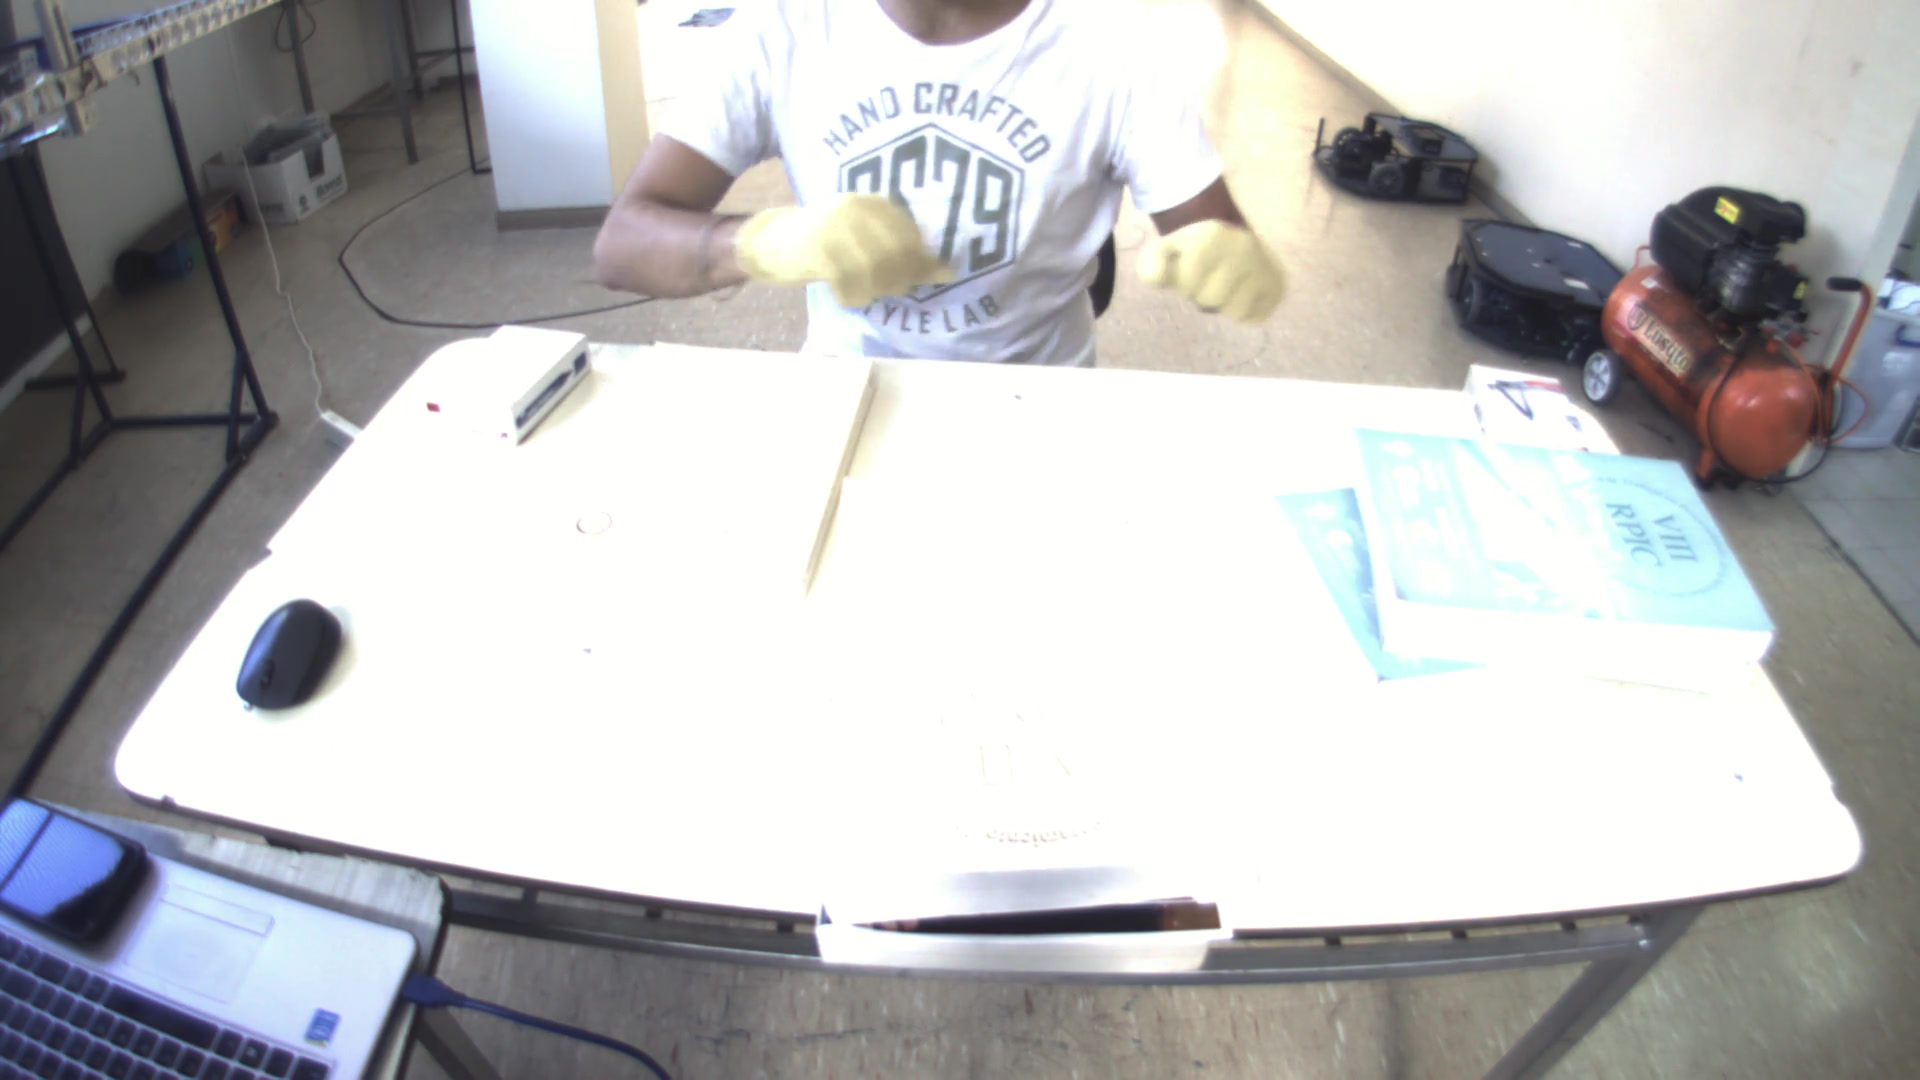hand: (724, 179, 948, 306), (1153, 196, 1309, 322)
